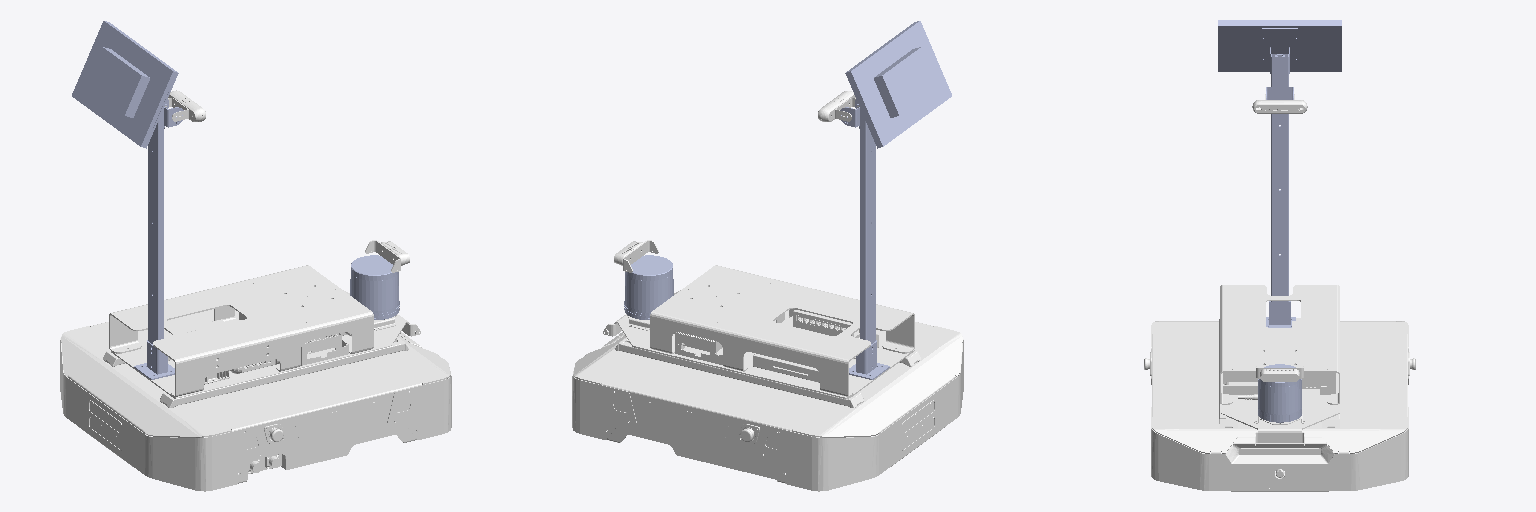
robot.urdf — mobile_manipulator2:
<?xml version="1.0" ?>
<!-- =================================================================================== -->
<!-- |    This document was autogenerated by xacro from mobile_manipulator2_description.xacro                    | -->
<!-- |    EDITING THIS FILE BY HAND IS NOT RECOMMENDED                                 | -->
<!-- =================================================================================== -->
<robot name="mobile_manipulator2">
  <!-- Dummy root link to avoid KDL inertia warning -->
  <link name="world_link"/>
  
  <!-- Fixed joint connecting dummy root to actual base -->
  <joint name="world_to_base" type="fixed">
    <origin rpy="0 0 0" xyz="0 0 0"/>
    <parent link="world_link"/>
    <child link="base_link"/>
  </joint>
  
  <link name="base_link">
    <inertial>
      <origin rpy="0 0 0" xyz="-0.0312209606413168 -1.37168643094102E-05 -0.0624311561488474"/>
      <mass value="3.66600808570302"/>
      <inertia ixx="0.070830972506108" ixy="0.000423733904503755" ixz="-0.0004402307499561" iyy="0.0538747474413543" iyz="0.000250637811260168" izz="0.118808674602765"/>
    </inertial>
    <visual>
      <origin rpy="0 0 0" xyz="0 0 0"/>
      <geometry>
        <mesh filename="package://mobile_manipulator2_description/meshes/base_link.STL"/>
      </geometry>
      <material name="">
        <color rgba="1 1 1 1"/>
      </material>
    </visual>
    <collision>
      <origin rpy="0 0 0" xyz="0 0 0"/>
      <geometry>
        <mesh filename="package://mobile_manipulator2_description/meshes/base_link.STL"/>
      </geometry>
    </collision>
  </link>
  <link name="box_Link">
    <inertial>
      <origin rpy="0 0 0" xyz="-0.0336792278049677 -0.00458080590131121 0.046046222818299"/>
      <mass value="1.96086062558564"/>
      <inertia ixx="0.00861532872920901" ixy="-0.000126429659448238" ixz="-4.57098901476866E-05" iyy="0.0243467421162108" iyz="-2.86453497285015E-05" izz="0.0322309365376531"/>
    </inertial>
    <visual>
      <origin rpy="0 0 0" xyz="0 0 0"/>
      <geometry>
        <mesh filename="package://mobile_manipulator2_description/meshes/box_Link.STL"/>
      </geometry>
      <material name="">
        <color rgba="1 1 1 1"/>
      </material>
    </visual>
    <collision>
      <origin rpy="0 0 0" xyz="0 0 0"/>
      <geometry>
        <mesh filename="package://mobile_manipulator2_description/meshes/box_Link.STL"/>
      </geometry>
    </collision>
  </link>
  <joint name="box_joint" type="fixed">
    <origin rpy="0 0 0" xyz="0 0 0"/>
    <parent link="base_link"/>
    <child link="box_Link"/>
    <axis xyz="0 0 0"/>
  </joint>
  <link name="lifting_Link">
    <inertial>
      <origin rpy="0 0 0" xyz="-0.0645758262218638 3.1034672673273E-05 0.590832686497018"/>
      <mass value="1.28345031134681"/>
      <inertia ixx="0.0137761443631695" ixy="-2.91078208048479E-07" ixz="-0.000720021739199037" iyy="0.00882953168919407" iyz="7.87382666162099E-08" izz="0.00591609424737705"/>
    </inertial>
    <visual>
      <origin rpy="0 0 0" xyz="0 0 0"/>
      <geometry>
        <mesh filename="package://mobile_manipulator2_description/meshes/lifting_Link.STL"/>
      </geometry>
      <material name="">
        <color rgba="0.792156862745098 0.819607843137255 0.933333333333333 1"/>
      </material>
    </visual>
    <collision>
      <origin rpy="0 0 0" xyz="0 0 0"/>
      <geometry>
        <mesh filename="package://mobile_manipulator2_description/meshes/lifting_Link.STL"/>
      </geometry>
    </collision>
  </link>
  <joint name="lifting_joint" type="fixed">
    <origin rpy="0 0 0" xyz="-0.24269 0 0.022"/>
    <parent link="box_Link"/>
    <child link="lifting_Link"/>
    <axis xyz="0 0 0"/>
  </joint>
  <link name="top_camera_Link">
    <inertial>
      <origin rpy="0 0 0" xyz="0.0081944 0.00022525 0.00024018"/>
      <mass value="0.028999"/>
      <inertia ixx="3.8589E-05" ixy="-1.3619E-08" ixz="-2.6151E-08" iyy="3.7635E-06" iyz="2.7688E-08" izz="3.7044E-05"/>
    </inertial>
    <visual>
      <origin rpy="0 0 0" xyz="0 0 0"/>
      <geometry>
        <mesh filename="package://mobile_manipulator2_description/meshes/top_camera_Link.STL"/>
      </geometry>
      <material name="">
        <color rgba="1 1 1 1"/>
      </material>
    </visual>
    <collision>
      <origin rpy="0 0 0" xyz="0 0 0"/>
      <geometry>
        <mesh filename="package://mobile_manipulator2_description/meshes/top_camera_Link.STL"/>
      </geometry>
    </collision>
  </link>
  <joint name="top_camera_joint" type="fixed">
    <origin rpy="0 0 0" xyz="0.056999999999981 0 0.569500339851353"/>
    <parent link="lifting_Link"/>
    <child link="top_camera_Link"/>
    <axis xyz="0 0 0"/>
  </joint>
  <link name="lidar_Link">
    <inertial>
      <origin rpy="0 0 0" xyz="-0.010562 -0.00043095 0.033917"/>
      <mass value="0.11388"/>
      <inertia ixx="0.0001253" ixy="1.1158E-07" ixz="3.3459E-07" iyy="0.00012408" iyz="-2.6657E-08" izz="0.00019563"/>
    </inertial>
    <visual>
      <origin rpy="0 0 0" xyz="0 0 0"/>
      <geometry>
        <mesh filename="package://mobile_manipulator2_description/meshes/lidar_Link.STL"/>
      </geometry>
      <material name="">
        <color rgba="0.78824 0.81961 0.92941 1"/>
      </material>
    </visual>
    <collision>
      <origin rpy="0 0 0" xyz="0 0 0"/>
      <geometry>
        <mesh filename="package://mobile_manipulator2_description/meshes/lidar_Link.STL"/>
      </geometry>
    </collision>
  </link>
  <joint name="lidar_joint" type="fixed">
    <origin rpy="0 0 0" xyz="0.27254 0.00035292 0.0315"/>
    <parent link="base_link"/>
    <child link="lidar_Link"/>
    <axis xyz="0 0 0"/>
  </joint>
  <link name="under_camera_Link">
    <inertial>
      <origin rpy="0 0 0" xyz="0.0088456 0.00020043 0.0003575"/>
      <mass value="0.055353"/>
      <inertia ixx="4.2284E-05" ixy="2.4484E-07" ixz="-6.627E-08" iyy="4.8492E-06" iyz="-2.9109E-09" izz="4.2122E-05"/>
    </inertial>
    <visual>
      <origin rpy="0 0 0" xyz="0 0 0"/>
      <geometry>
        <mesh filename="package://mobile_manipulator2_description/meshes/under_camera_Link.STL"/>
      </geometry>
      <material name="">
        <color rgba="1 1 1 1"/>
      </material>
    </visual>
    <collision>
      <origin rpy="0 0 0" xyz="0 0 0"/>
      <geometry>
        <mesh filename="package://mobile_manipulator2_description/meshes/under_camera_Link.STL"/>
      </geometry>
    </collision>
  </link>
  <joint name="under_camera_joint" type="fixed">
    <origin rpy="0 0 0" xyz="0.30 0 0.15"/>
    <!-- origin rpy="0 0 0" xyz="0.35023 0 -0.00085446"/-->
    <parent link="base_link"/>
    <child link="under_camera_Link"/>
    <axis xyz="0 0 0"/>
  </joint>
  <link name="arm_base">
    <inertial>
      <origin rpy="0 0 0" xyz="-0.00979274765955341 1.82905827587138E-06 0.0410100126360189"/>
      <mass value="0.162548567403693"/>
      <inertia ixx="0.000226596924525071" ixy="-7.33972270153965E-08" ixz="2.13249977802622E-06" iyy="0.000269444772561524" iyz="8.15169009611054E-09" izz="0.000222318258878636"/>
    </inertial>
    <visual>
      <origin rpy="0 0 0" xyz="0 0 0"/>
      <geometry>
        <mesh filename="package://piper_description/meshes/dae/base_link.dae"/>
      </geometry>
      <material name="">
        <color rgba="0.792156862745098 0.819607843137255 0.933333333333333 1"/>
      </material>
    </visual>
    <collision>
      <origin rpy="0 0 0" xyz="0 0 0"/>
      <geometry>
        <mesh filename="package://piper_description/meshes/base_link.STL"/>
      </geometry>
    </collision>
  </link>
  <link name="link1">
    <inertial>
      <origin rpy="0 0 0" xyz="0.00131676031927024 0.000310288842008612 -0.00922874512303437"/>
      <mass value="0.0978679932242825"/>
      <inertia ixx="7.76684558296782E-05" ixy="1.09084650459924E-07" ixz="-1.9748053243241E-06" iyy="9.24967780161547E-05" iyz="9.91284646834582E-07" izz="8.24589062407807E-05"/>
    </inertial>
    <visual>
      <origin rpy="0 0 0" xyz="0 0 0"/>
      <geometry>
        <mesh filename="package://piper_description/meshes/dae/link1.dae"/>
      </geometry>
      <material name="">
        <color rgba="0.792156862745098 0.819607843137255 0.933333333333333 1"/>
      </material>
    </visual>
    <collision>
      <origin rpy="0 0 1.5708" xyz="0 0 0"/>
      <geometry>
        <mesh filename="package://piper_description/meshes/link1.STL"/>
      </geometry>
    </collision>
  </link>
  <joint name="joint1" type="revolute">
    <origin rpy="0 0 -1.5708" xyz="0 0 0.123"/>
    <parent link="arm_base"/>
    <child link="link1"/>
    <axis xyz="0 0 1"/>
    <limit effort="100" lower="-2.618" upper="2.618" velocity="3"/>
  </joint>
  <link name="link2">
    <inertial>
      <origin rpy="0 0 0" xyz="0.148793602378802 -0.00242026983944119 0.00175154638467948"/>
      <mass value="0.290888938633388"/>
      <inertia ixx="0.000148959640166183" ixy="-7.37750384371657E-05" ixz="-9.68688405196236E-07" iyy="0.00172800946632652" iyz="-1.09692225564224E-06" izz="0.0017754628344594"/>
    </inertial>
    <visual>
      <origin rpy="0 0 0" xyz="0 0 0"/>
      <geometry>
        <mesh filename="package://piper_description/meshes/dae/link2.dae"/>
      </geometry>
      <material name="">
        <color rgba="0.792156862745098 0.819607843137255 0.933333333333333 1"/>
      </material>
    </visual>
    <collision>
      <origin rpy="0 0 0.1" xyz="0 0 0"/>
      <geometry>
        <mesh filename="package://piper_description/meshes/link2.STL"/>
      </geometry>
    </collision>
  </link>
  <joint name="joint2" type="revolute">
    <origin rpy="1.5708 -0.034907 -1.5708" xyz="0 0 0"/>
    <parent link="link1"/>
    <child link="link2"/>
    <axis xyz="0 0 1"/>
    <limit effort="100" lower="0" upper="3.14" velocity="3"/>
  </joint>
  <link name="link3">
    <inertial>
      <origin rpy="0 0 0" xyz="-0.0996835215213704 0.0349477226691318 0.000508025815507312"/>
      <mass value="0.290847697793211"/>
      <inertia ixx="0.000107879011637167" ixy="2.92669521203626E-05" ixz="6.825922326238E-07" iyy="0.000214751671792086" iyz="-7.78469047878196E-07" izz="0.000241923439340319"/>
    </inertial>
    <visual>
      <origin rpy="0 0 0" xyz="0 0 0"/>
      <geometry>
        <mesh filename="package://piper_description/meshes/dae/link3.dae"/>
      </geometry>
      <material name="">
        <color rgba="0.792156862745098 0.819607843137255 0.933333333333333 1"/>
      </material>
    </visual>
    <collision>
      <origin rpy="0 0 -1.75" xyz="0 0 0"/>
      <geometry>
        <mesh filename="package://piper_description/meshes/link3.STL"/>
      </geometry>
    </collision>
  </link>
  <joint name="joint3" type="revolute">
    <origin rpy="0 0 0.06604341" xyz="0.28358 0.028726 0"/>
    <parent link="link2"/>
    <child link="link3"/>
    <axis xyz="0 0 1"/>
    <limit effort="100" lower="-2.697" upper="0" velocity="3"/>
  </joint>
  <link name="link4">
    <inertial>
      <origin rpy="0 0 0" xyz="0.000276464622387979 -0.00102803669324875 -0.00472830700561663"/>
      <mass value="0.127087348341362"/>
      <inertia ixx="3.82011730423416E-05" ixy="-4.92358350897513E-08" ixz="4.89589432973119E-08" iyy="4.87048555222578E-05" iyz="6.70802942500512E-08" izz="4.10592077565559E-05"/>
    </inertial>
    <visual>
      <origin rpy="0 0 0" xyz="0 0 0"/>
      <geometry>
        <mesh filename="package://piper_description/meshes/dae/link4.dae"/>
      </geometry>
      <material name="">
        <color rgba="0.792156862745098 0.819607843137255 0.933333333333333 1"/>
      </material>
    </visual>
    <collision>
      <origin rpy="0 0 0" xyz="0 0 0"/>
      <geometry>
        <mesh filename="package://piper_description/meshes/link4.STL"/>
      </geometry>
    </collision>
  </link>
  <joint name="joint4" type="revolute">
    <origin rpy="-1.5708 0 1.3826" xyz="-0.24221 0.068514 0"/>
    <parent link="link3"/>
    <child link="link4"/>
    <axis xyz="0 0 1"/>
    <limit effort="100" lower="-1.832" upper="1.832" velocity="3"/>
  </joint>
  <link name="link5">
    <inertial>
      <origin rpy="0 0 0" xyz="8.82262433516967E-05 0.0566829014808256 -0.00196119720482461"/>
      <mass value="0.144711242639457"/>
      <inertia ixx="4.39644313662493E-05" ixy="-3.59259686444846E-08" ixz="-1.89747741386183E-08" iyy="5.63173920951307E-05" iyz="-2.1540716689785E-07" izz="4.88713664675268E-05"/>
    </inertial>
    <visual>
      <origin rpy="0 0 0" xyz="0 0 0"/>
      <geometry>
        <mesh filename="package://piper_description/meshes/dae/link5.dae"/>
      </geometry>
      <material name="">
        <color rgba="0.792156862745098 0.819607843137255 0.933333333333333 1"/>
      </material>
    </visual>
    <collision>
      <origin rpy="0 0 -3.14" xyz="0 0 0"/>
      <geometry>
        <mesh filename="package://piper_description/meshes/link5.STL"/>
      </geometry>
    </collision>
  </link>
  <joint name="joint5" type="revolute">
    <origin rpy="1.5708 0 0" xyz="0 0 0"/>
    <parent link="link4"/>
    <child link="link5"/>
    <axis xyz="0 0 1"/>
    <limit effort="100" lower="-1.22" upper="1.22" velocity="3"/>
  </joint>
  <link name="link6">
    <inertial>
      <origin rpy="0 0 0" xyz="0.00103120214523473 0.0121761387587524 0.0315480874960164"/>
      <mass value="0.195187143240719"/>
      <inertia ixx="6.43790256535539E-05" ixy="-1.2366166157046E-06" ixz="1.97664606328472E-07" iyy="0.000126146396374301" iyz="2.41157078516408E-06" izz="0.000154087076816444"/>
    </inertial>
    <visual>
      <origin rpy="-1.57 0 0" xyz="-0.002 -0.008 0"/>
      <geometry>
        <mesh filename="package://piper_description/meshes/dae/camera_v3.dae"/>
      </geometry>
      <material name="">
        <color rgba="0.792156862745098 0.819607843137255 0.933333333333333 1"/>
      </material>
    </visual>
    <collision>
      <origin rpy="-1.57 0 0" xyz="-0.002 -0.008 0"/>
      <geometry>
        <mesh filename="package://piper_description/meshes/dae/camera_v3.dae"/>
      </geometry>
    </collision>
  </link>
  <joint name="joint6" type="revolute">
    <origin rpy="-1.5708 -1.5708 0" xyz="0 0.091 0.0014165"/>
    <parent link="link5"/>
    <child link="link6"/>
    <axis xyz="0 0 1"/>
    <limit effort="100" lower="-3.14" upper="3.14" velocity="3"/>
  </joint>
  <link name="link7">
    <inertial>
      <origin rpy="0 0 0" xyz="-0.000277778383727112 -0.0467673043650824 -0.00921029491873201"/>
      <mass value="0.02648229234527"/>
      <inertia ixx="9.99787479924589E-06" ixy="-1.57548495096104E-07" ixz="-2.71342775003487E-08" iyy="6.1795212293655E-06" iyz="-1.58939803580081E-06" izz="1.42102717246564E-05"/>
    </inertial>
    <visual>
      <origin rpy="0 0 0" xyz="0 0 0"/>
      <geometry>
        <mesh filename="package://piper_description/meshes/dae/link7.dae"/>
      </geometry>
      <material name="">
        <color rgba="0.792156862745098 0.819607843137255 0.933333333333333 1"/>
      </material>
    </visual>
    <collision>
      <origin rpy="0 3.14 0" xyz="-0.001 0 0.0003"/>
      <geometry>
        <mesh filename="package://piper_description/meshes/link7.STL"/>
      </geometry>
    </collision>
  </link>
  <joint name="joint7" type="prismatic">
    <origin rpy="1.5708 0 1.5708" xyz="0 0 0.13503"/>
    <parent link="link6"/>
    <child link="link7"/>
    <axis xyz="0 0 -1"/>
    <limit effort="10" lower="0" upper="0.05" velocity="1"/>
  </joint>
  <link name="link8">
    <inertial>
      <origin rpy="0 0 0" xyz="0.000277816920932317 0.0467673824063769 -0.00921030054508036"/>
      <mass value="0.0264822021416248"/>
      <inertia ixx="9.99779119357223E-06" ixy="-1.57542283433504E-07" ixz="2.71367446701359E-08" iyy="6.17952441557932E-06" iyz="1.58939319453383E-06" izz="1.4210192754512E-05"/>
    </inertial>
    <visual>
      <origin rpy="0 0 0" xyz="0 0 0"/>
      <geometry>
        <mesh filename="package://piper_description/meshes/dae/link8.dae"/>
      </geometry>
      <material name="">
        <color rgba="0.792156862745098 0.819607843137255 0.933333333333333 1"/>
      </material>
    </visual>
    <collision>
      <origin rpy="3.14 0 0" xyz="-0.001 0 0.0003"/>
      <geometry>
        <mesh filename="package://piper_description/meshes/link8.STL"/>
      </geometry>
    </collision>
  </link>
  <joint name="joint8" type="prismatic">
    <origin rpy="-1.5708 0 1.5708" xyz="0 0 0.13503"/>
    <parent link="link6"/>
    <child link="link8"/>
    <axis xyz="0 0 1"/>
    <limit effort="10" lower="-0.05" upper="0" velocity="1"/>
  </joint>
  <joint name="arm_joint" type="fixed">
    <origin rpy="0.0 0.0 0.0" xyz="0.118 0 0.1"/>
    <parent link="box_Link"/>
    <child link="arm_base"/>
    <axis xyz="0.0 0.0 0.0"/>
    <limit effort="0.0" lower="0.0" upper="0.0" velocity="0.0"/>
  </joint>
</robot>

--- Facts derived from the render (not from the file) ---
3 views of the same robot in one strip: view 1: azimuth 30°, elevation 25°; view 2: azimuth 150°, elevation 25°; view 3: azimuth 270°, elevation 25° (orthographic).
Model mobile_manipulator2 with 16 links and 15 joints (6 revolute, 2 prismatic, 7 fixed), rooted at world_link, posed every joint at zero.
Links seen in each view (by area): view 1: base_link, box_Link, lifting_Link, lidar_Link, top_camera_Link, under_camera_Link; view 2: base_link, box_Link, lifting_Link, lidar_Link, top_camera_Link, under_camera_Link; view 3: base_link, box_Link, lifting_Link, lidar_Link, top_camera_Link, under_camera_Link.
Link boxes in pixels (x1=…): base_link: x1=60, y1=290, x2=451, y2=491; box_Link: x1=109, y1=265, x2=420, y2=397; lifting_Link: x1=72, y1=21, x2=183, y2=379; lidar_Link: x1=350, y1=255, x2=399, y2=319; top_camera_Link: x1=165, y1=90, x2=205, y2=121; under_camera_Link: x1=365, y1=240, x2=409, y2=272; base_link: x1=572, y1=290, x2=963, y2=491; box_Link: x1=603, y1=265, x2=914, y2=398; lifting_Link: x1=840, y1=21, x2=951, y2=379; lidar_Link: x1=624, y1=255, x2=673, y2=319; top_camera_Link: x1=818, y1=91, x2=858, y2=121; under_camera_Link: x1=614, y1=240, x2=658, y2=272; base_link: x1=1144, y1=319, x2=1415, y2=491; box_Link: x1=1220, y1=285, x2=1339, y2=446; lifting_Link: x1=1218, y1=20, x2=1341, y2=327; lidar_Link: x1=1258, y1=364, x2=1301, y2=422; top_camera_Link: x1=1252, y1=94, x2=1307, y2=113; under_camera_Link: x1=1256, y1=366, x2=1303, y2=381.
Size in the robot's own frame: 0.7058 by 0.61 by 0.8779 metres.
Meshes: 15 distinct files referenced, 6 mesh visuals loaded (6 binary STL); not drawn: 9 (reference not matched to a file when rendering).